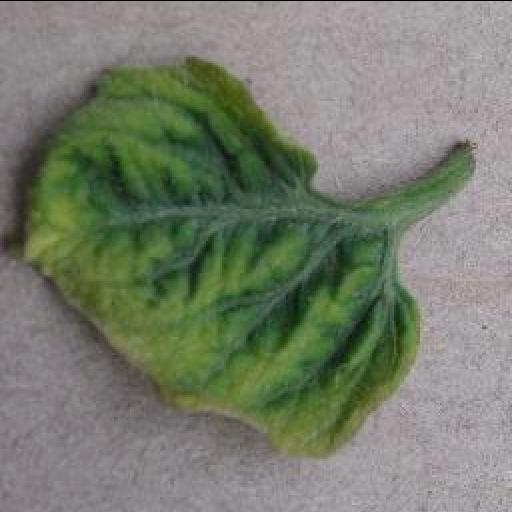disease_tomato: (18, 55, 420, 461)
